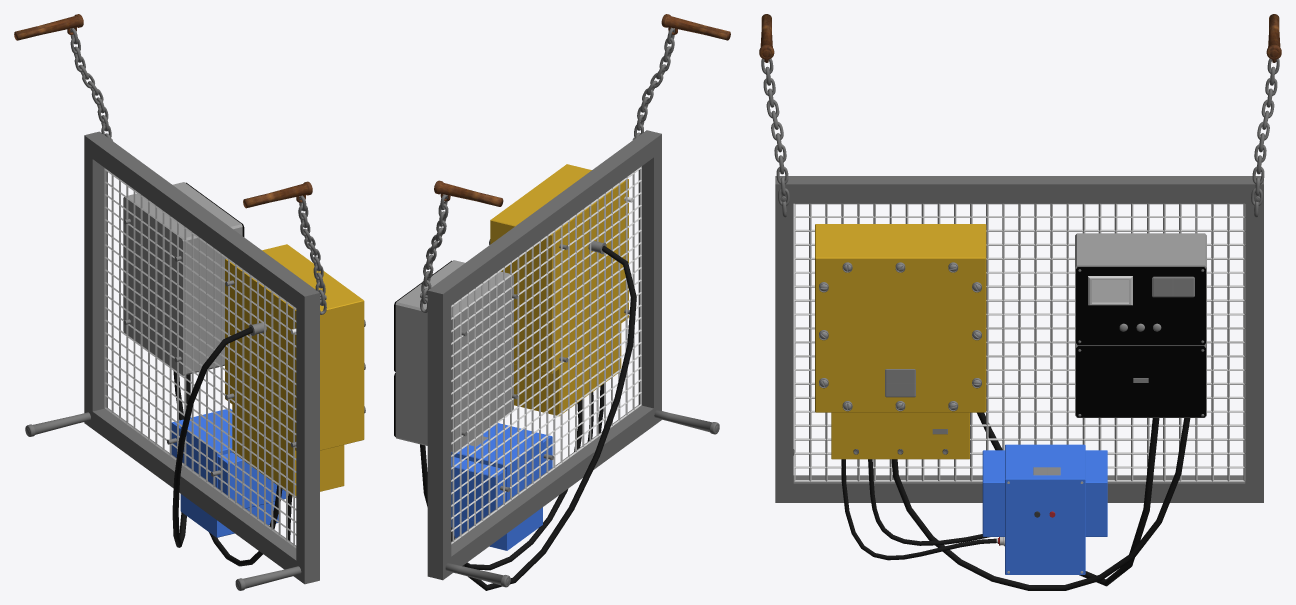
The model's file is Acil Durum Butonu .fbx.
3 renders of one model, left to right at view 1: azimuth 30°, elevation 25°; view 2: azimuth 150°, elevation 25°; view 3: azimuth 270°, elevation 25°, orthographic. The views are drawn at different scales.
Visible parts, largest first — view 1: Stand, sarı kutu, Cube.003, mavi kuru, kablolar; view 2: Stand, sarı kutu, Cube.003, mavi kuru, kablolar; view 3: Stand, sarı kutu, Cube.003, mavi kuru, kablolar.
Boxes of the visible parts, x1=… form: Stand: x1=14, y1=14, x2=326, y2=590; sarı kutu: x1=225, y1=244, x2=365, y2=497; Cube.003: x1=123, y1=182, x2=244, y2=375; mavi kuru: x1=167, y1=408, x2=285, y2=537; kablolar: x1=172, y1=327, x2=292, y2=566; Stand: x1=420, y1=14, x2=730, y2=587; sarı kutu: x1=489, y1=164, x2=633, y2=416; Cube.003: x1=394, y1=260, x2=517, y2=452; mavi kuru: x1=451, y1=423, x2=553, y2=550; kablolar: x1=420, y1=245, x2=636, y2=590; Stand: x1=759, y1=14, x2=1281, y2=502; sarı kutu: x1=815, y1=224, x2=986, y2=459; Cube.003: x1=1075, y1=233, x2=1206, y2=417; mavi kuru: x1=982, y1=444, x2=1107, y2=574; kablolar: x1=841, y1=412, x2=1190, y2=590.
Size of the model in its own units: 18.38 by 57.56 by 51.91.
